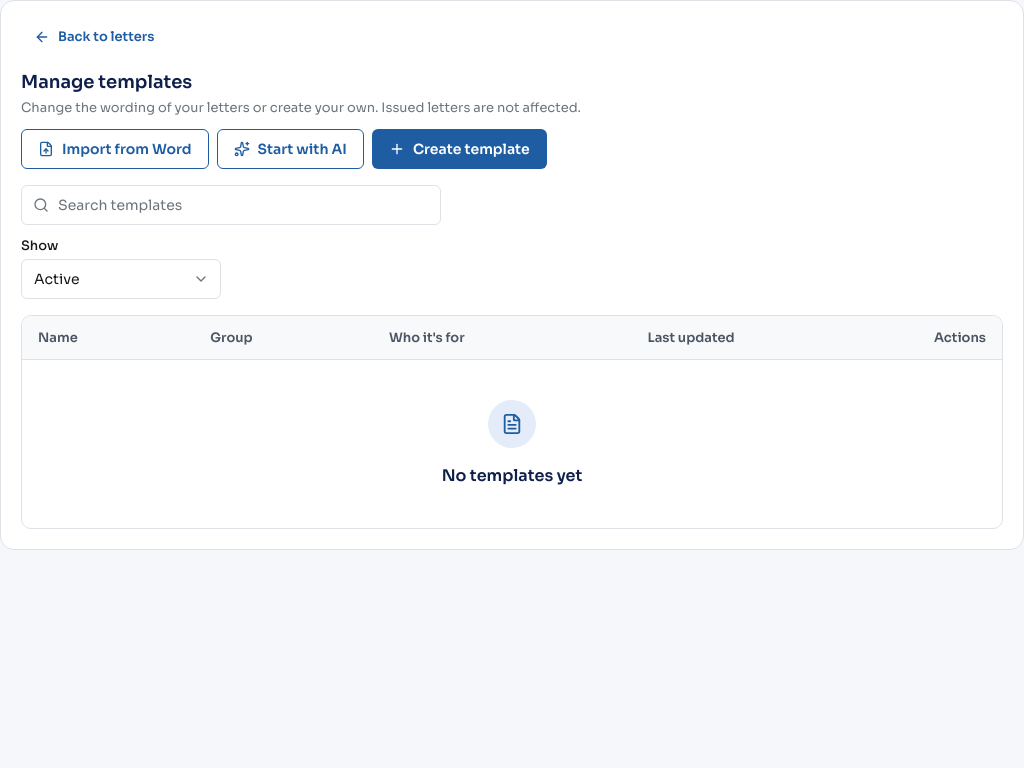
Manage templates › shows the AI error in the dialog and keeps it open
Click the button "Start with AI" at (290, 149), box [216, 129, 364, 169]
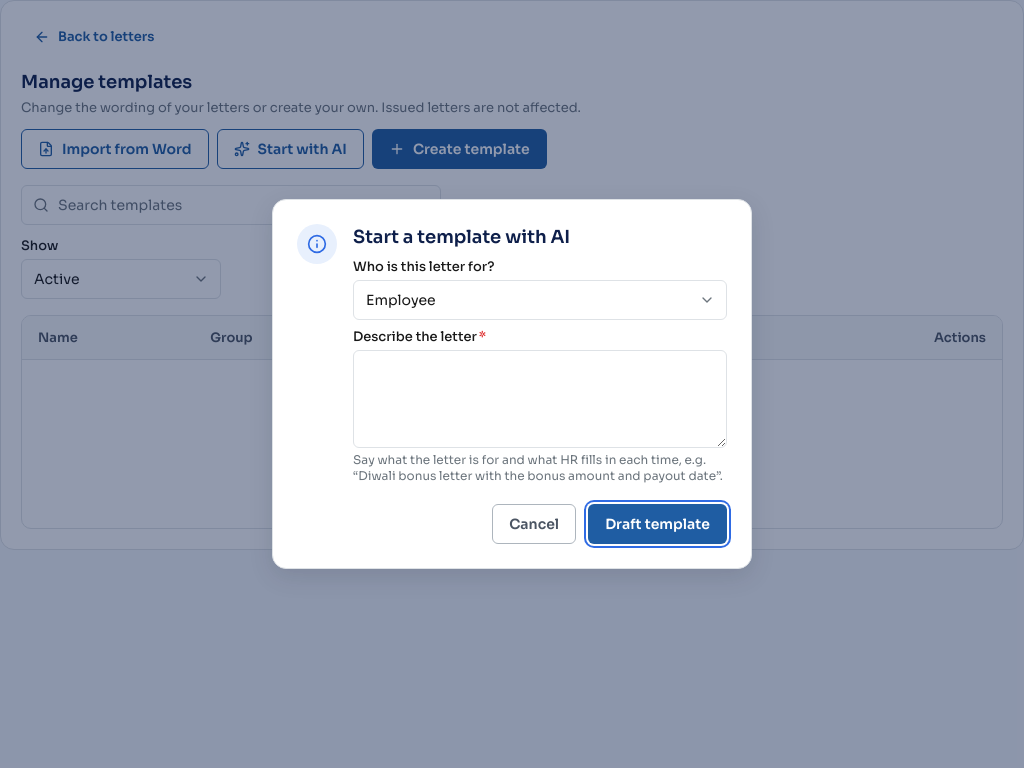
Type "Diwali bonus letter with amount" into the text box labelled "Describe the letter *" at (540, 399), box [353, 350, 727, 448]
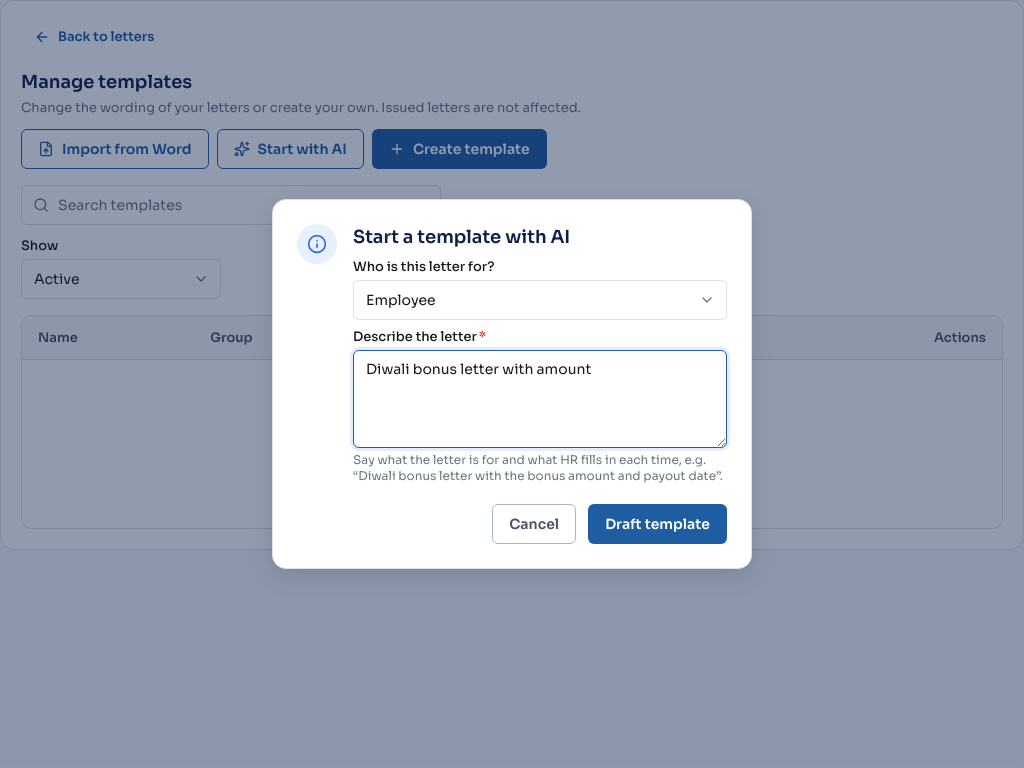
Click the button "Draft template" at (658, 524), box [588, 504, 727, 544]
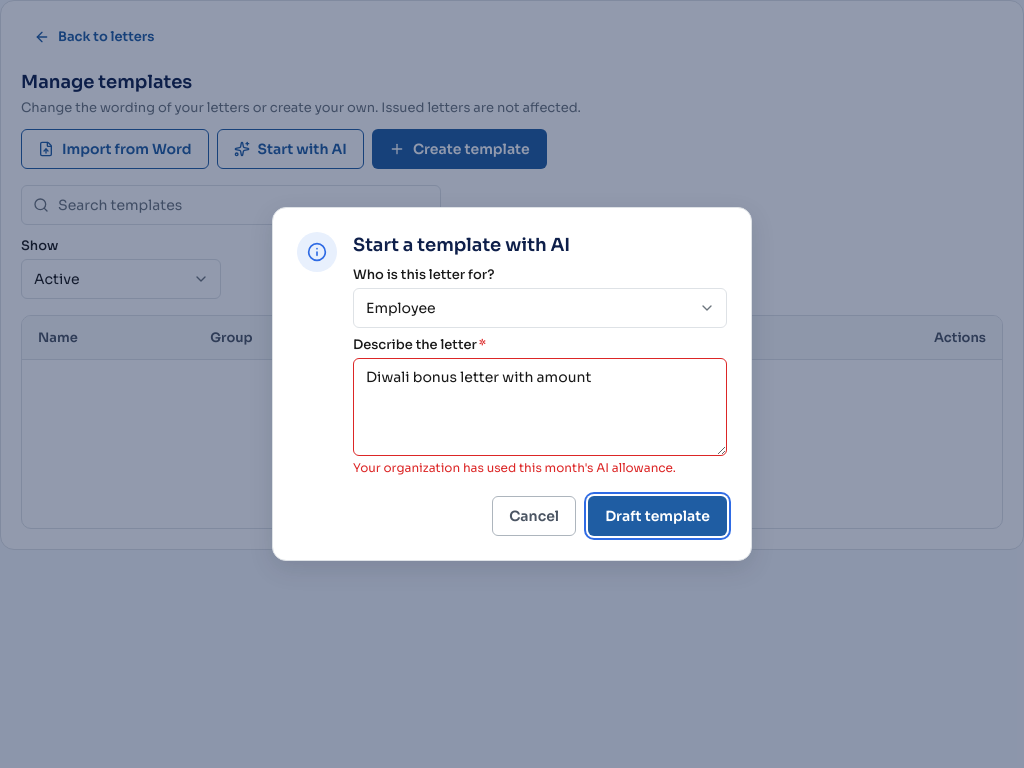
Now the dialog is shown, box [272, 207, 752, 561]
Now the text "Your organization has used this month's AI allowance." is shown, box [353, 460, 727, 476]
